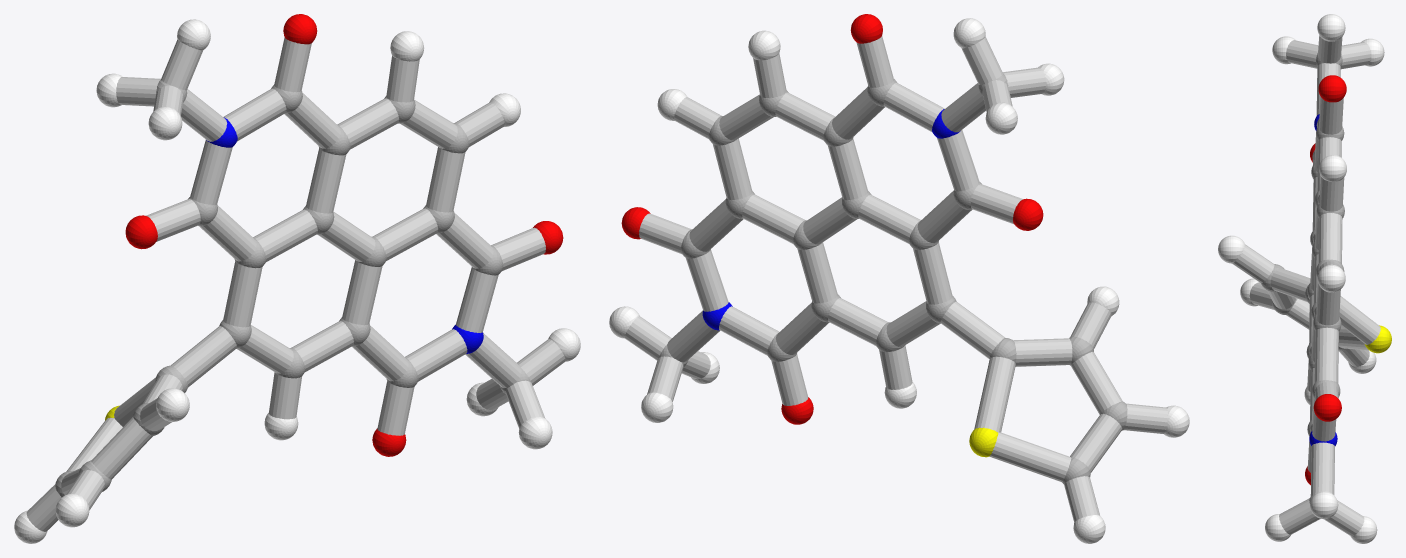
Rendered from Dimethyl_Naphthalene_Dicarboximide_Phi_10_Theta_300_Thiophene.glb.
3 views of the same model, side by side, from view 1: azimuth 30°, elevation 25°; view 2: azimuth 150°, elevation 25°; view 3: azimuth 270°, elevation 25° (orthographic). The views are drawn at different scales.
Visible parts, largest first — view 1: grp14119, grp7241, grp1, grp12309, grp11585; view 2: grp14119, grp7241, grp1, grp12309, grp11585; view 3: grp14119, grp7241, grp1, grp12309, grp13757.
Part boxes in pixels (x1,y1,x2,y2): grp14119: [26, 37, 565, 531]; grp7241: [14, 19, 580, 543]; grp1: [55, 80, 531, 497]; grp12309: [125, 14, 563, 456]; grp11585: [206, 117, 483, 353]; grp14119: [624, 36, 1167, 522]; grp7241: [609, 18, 1189, 543]; grp1: [659, 73, 1127, 484]; grp12309: [621, 14, 1043, 424]; grp11585: [702, 109, 960, 330]; grp14119: [1232, 35, 1380, 536]; grp7241: [1218, 14, 1384, 543]; grp1: [1261, 53, 1347, 503]; grp12309: [1305, 75, 1346, 485]; grp13757: [1364, 325, 1391, 353].
Size of the model in its own units: 11.5 by 9.76 by 3.7.
